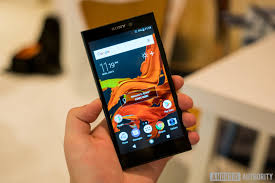sony: (76, 9, 192, 171)
